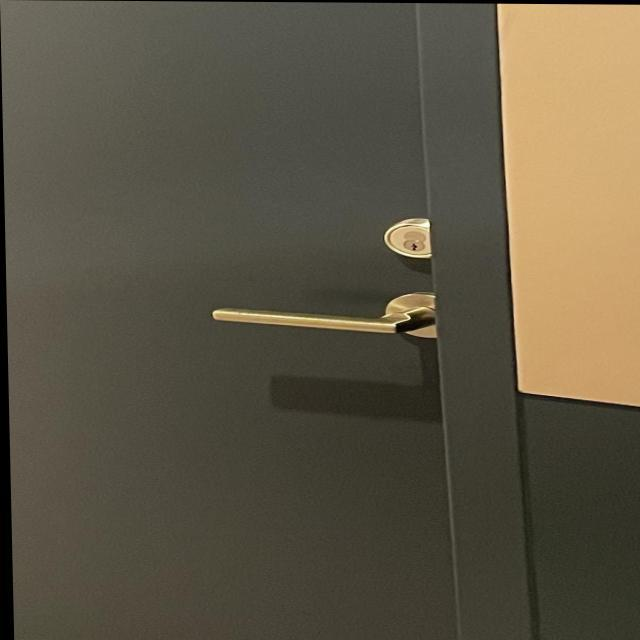door_handle: (199, 287, 463, 358)
